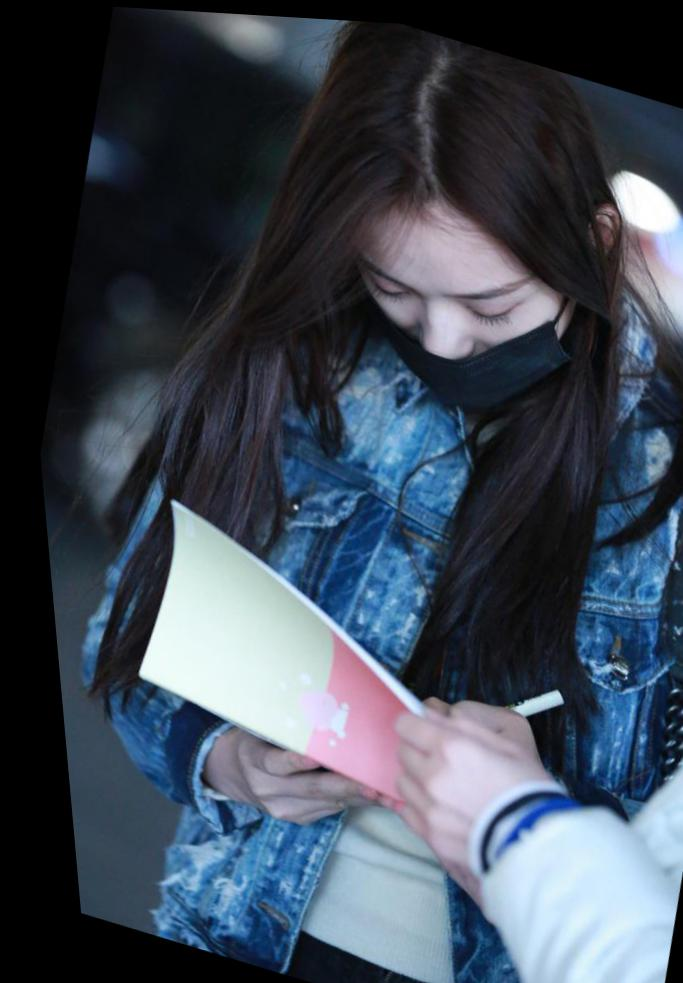WRONG: (320, 177, 592, 436)
